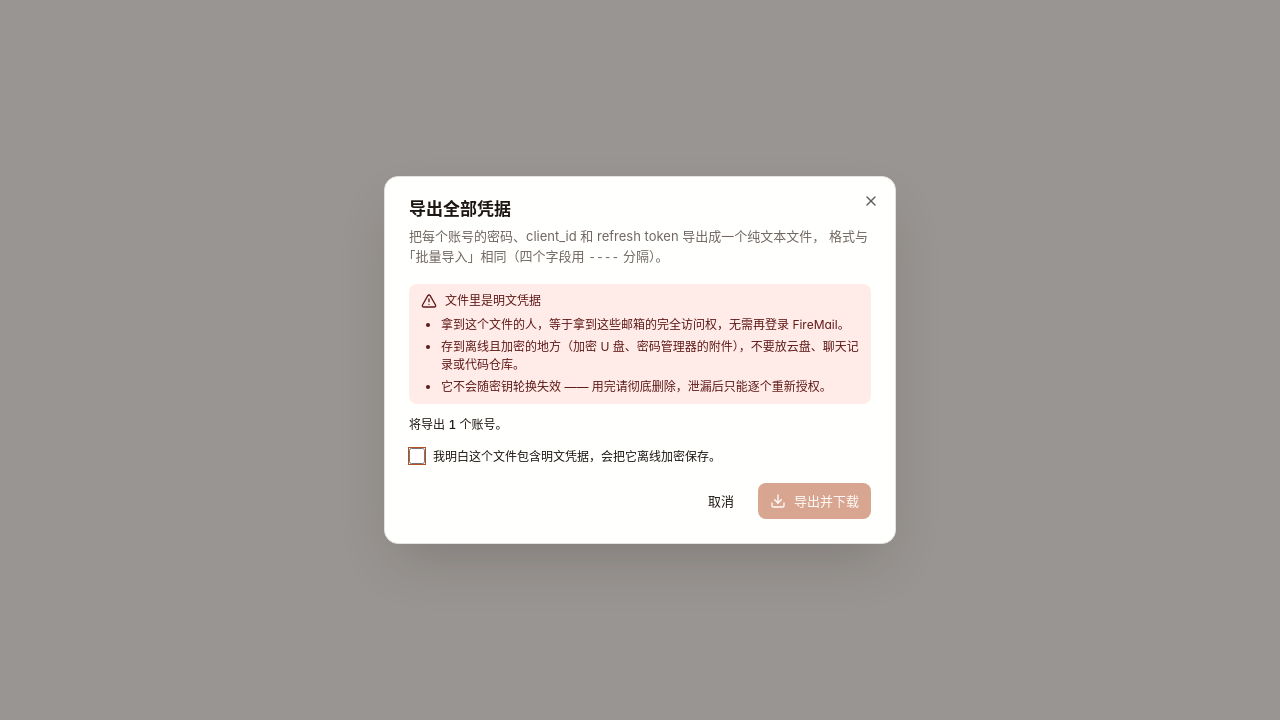
Test: 导出凭据对话框 › 服务端说有账号没进文件时，结果里明说这份备份不完整
Click the checkbox labelled "我明白这个文件包含明文凭据，会把它离线加密保存。": (417, 456) [409,448,425,464]
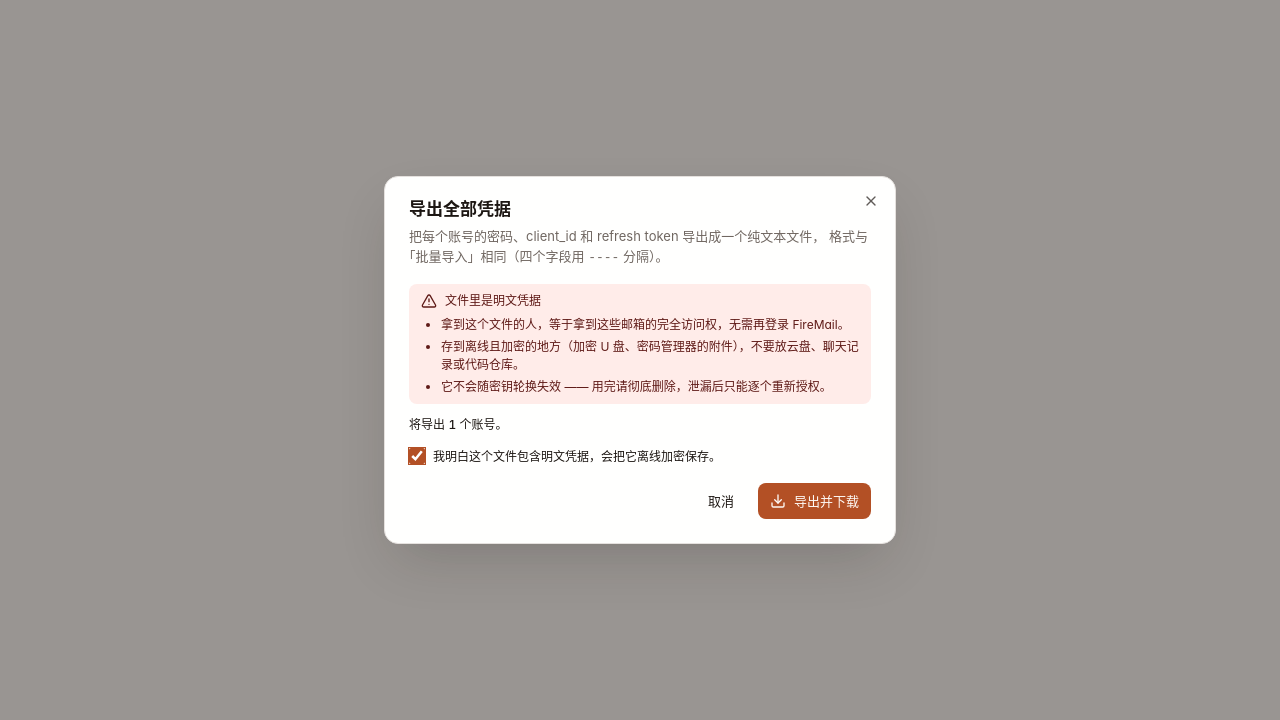
Click the button "导出并下载": (814, 501) [758,483,871,519]
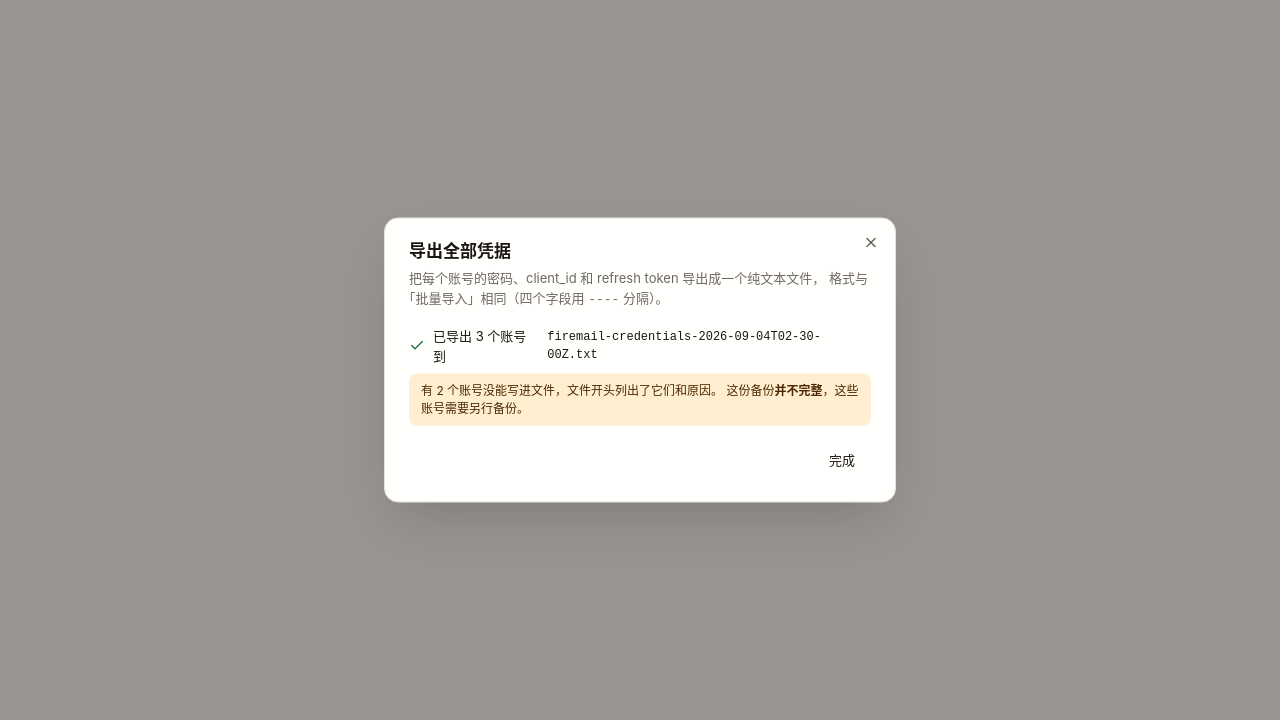
Now the text "并不完整" is shown, box [774,382,822,398]
Now the text "有 2 个账号没能写进文件" is shown, box [409,374,871,426]
